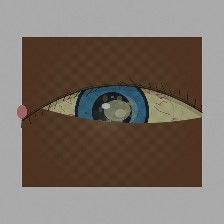corneal_ulcer: (95, 93, 139, 128)
